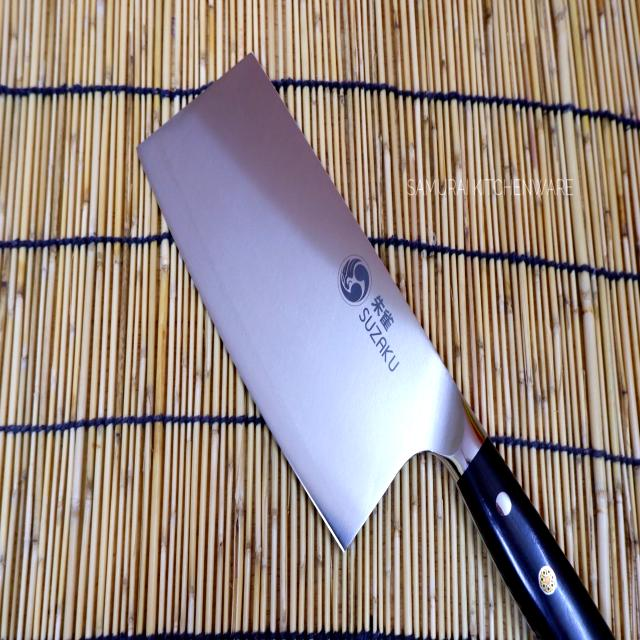cleaver: (140, 52, 599, 640)
